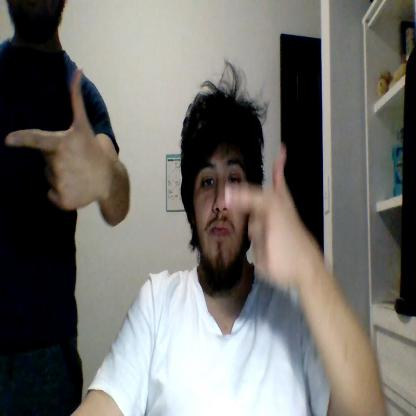G: (6, 67, 98, 209), (224, 146, 298, 285)
